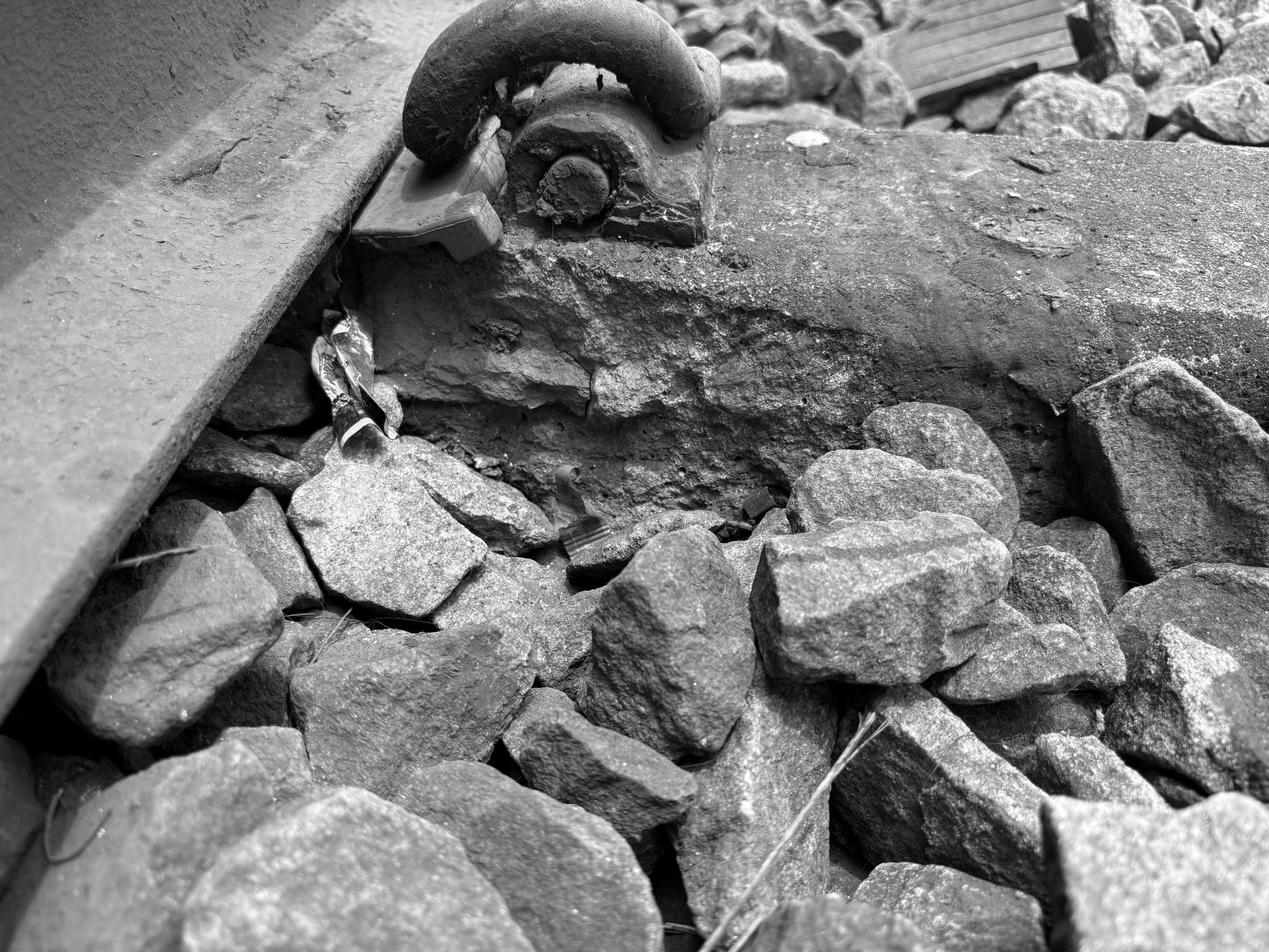cracks under rail seat: (286, 168, 974, 585)
